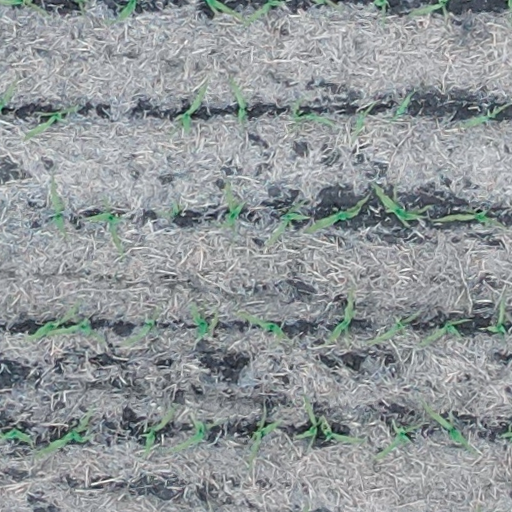planta: (32, 405, 94, 458), (422, 401, 474, 452), (305, 196, 368, 233), (248, 404, 285, 467), (371, 183, 432, 221), (86, 205, 125, 256), (173, 80, 208, 136), (23, 104, 77, 140), (266, 198, 309, 243), (25, 304, 77, 340), (366, 310, 419, 345), (236, 310, 285, 346), (142, 404, 176, 455), (169, 417, 217, 453), (374, 422, 419, 459), (326, 285, 354, 343), (419, 316, 473, 345), (44, 316, 103, 340), (190, 302, 220, 349), (292, 93, 334, 126), (122, 307, 158, 345), (317, 415, 362, 445), (480, 291, 507, 338), (221, 179, 247, 227), (432, 207, 500, 225), (296, 393, 320, 440), (227, 77, 246, 131), (47, 178, 65, 231), (353, 103, 374, 136), (390, 91, 414, 118)
